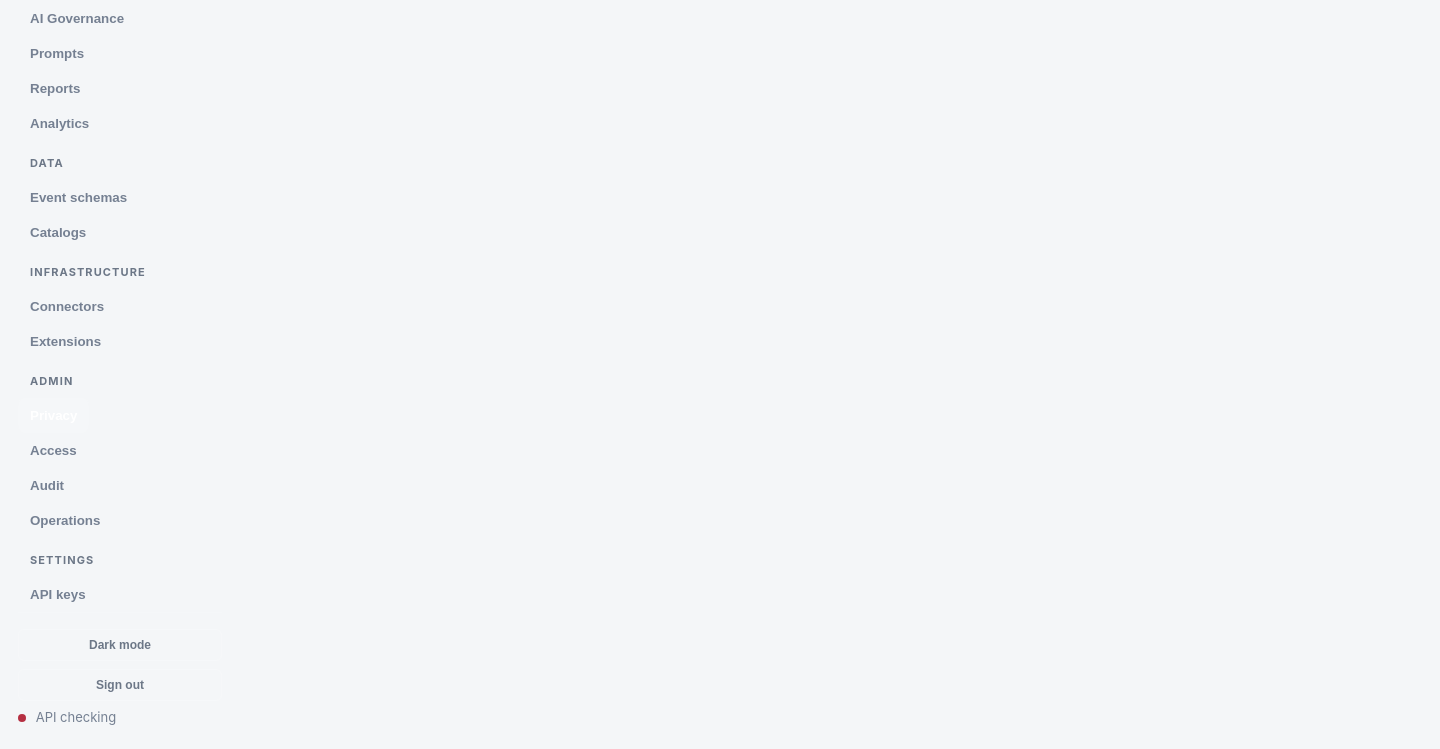
Test case: App › exposes access administration
(page scrolled)
Click the button "Access": (53, 450) top-left (18, 433), bottom-right (89, 468)
(page scrolled)
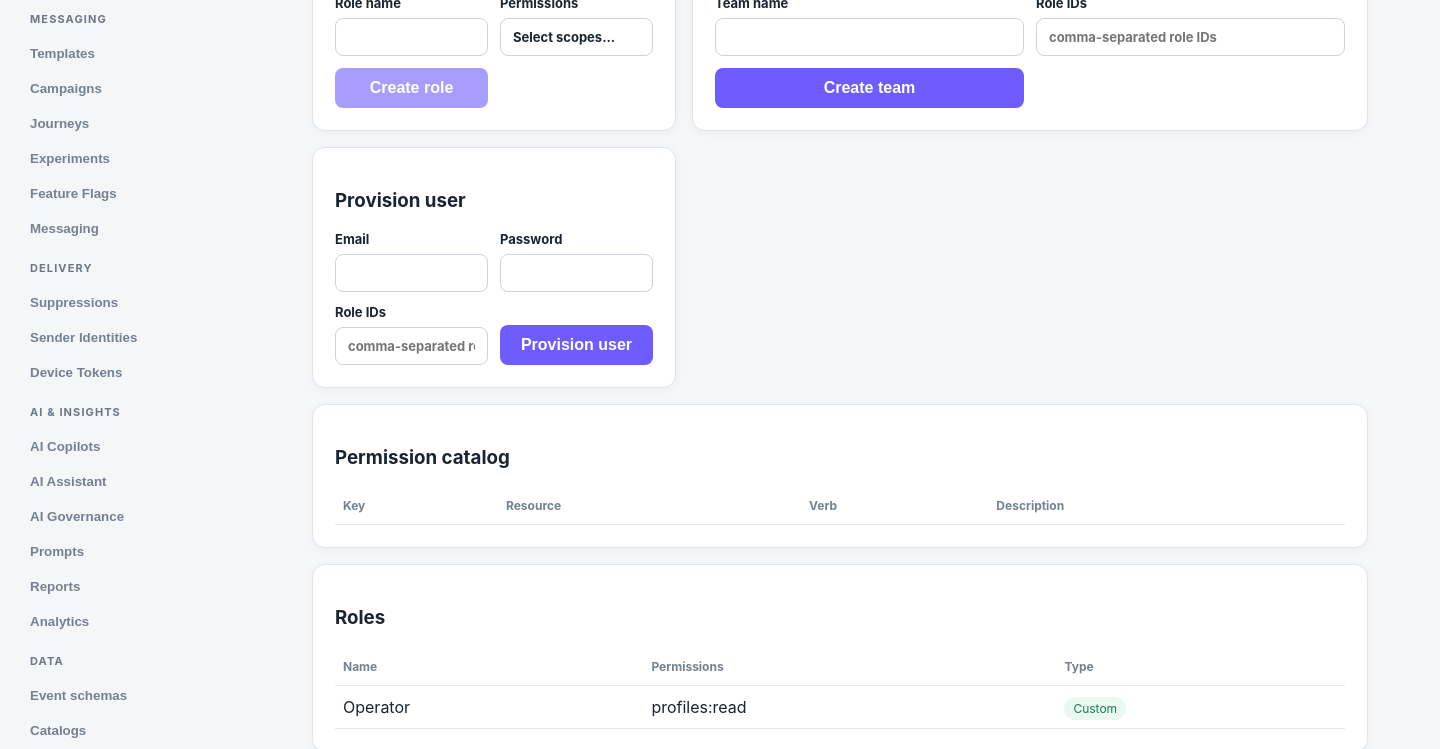
Now the text "Operator" is shown, box top-left (335, 685), bottom-right (643, 728)
Now the button "Create role" is shown, box top-left (335, 68), bottom-right (488, 108)
Now the button "Provision user" is shown, box top-left (500, 325), bottom-right (653, 365)
